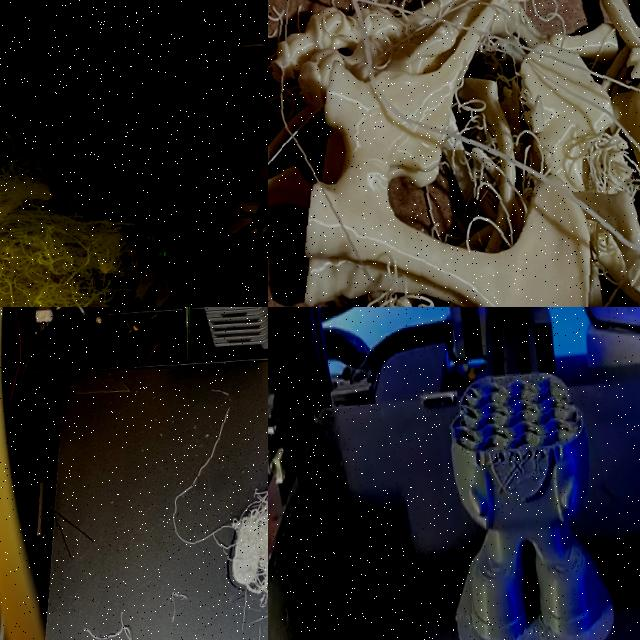spaghetti: (268, 0, 640, 307), (0, 89, 179, 307), (150, 361, 268, 606), (173, 588, 213, 640), (80, 610, 138, 640)
